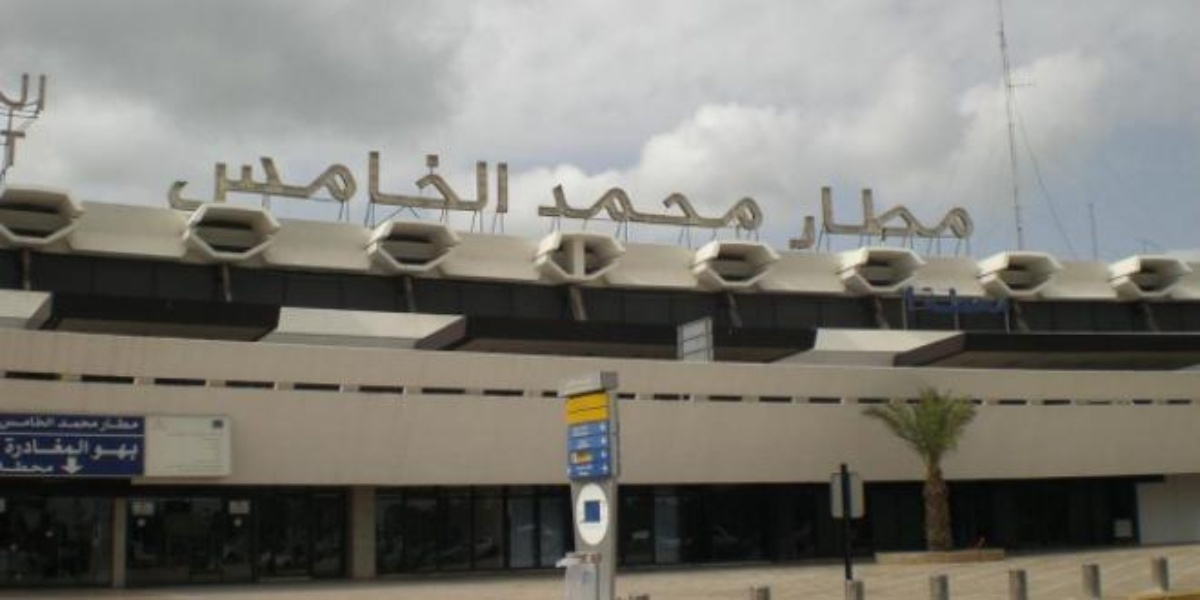text: (961, 182, 977, 250), (801, 182, 816, 250), (817, 182, 832, 250), (833, 182, 848, 250), (849, 182, 864, 250), (865, 182, 880, 250), (881, 182, 896, 250), (897, 182, 912, 250), (913, 182, 928, 250), (929, 182, 944, 250), (945, 182, 960, 250), (177, 144, 192, 211), (193, 144, 208, 211), (209, 144, 224, 211), (225, 144, 240, 211), (241, 144, 256, 211), (257, 144, 272, 211), (273, 144, 288, 211), (289, 144, 304, 211), (305, 144, 320, 211), (321, 144, 336, 211), (337, 144, 352, 211), (353, 144, 368, 211), (369, 144, 384, 211), (385, 144, 400, 211), (401, 144, 416, 211), (417, 144, 432, 211), (433, 144, 448, 211), (449, 144, 464, 211), (465, 144, 480, 211), (481, 144, 496, 211), (786, 182, 800, 250), (497, 144, 511, 211), (577, 417, 592, 479), (593, 417, 608, 479), (562, 417, 576, 479), (577, 424, 592, 479), (545, 179, 560, 233), (561, 179, 576, 233), (577, 179, 592, 233), (593, 179, 608, 233), (609, 179, 624, 233), (625, 179, 640, 233), (641, 179, 656, 233), (657, 179, 672, 233), (673, 179, 688, 233), (689, 179, 704, 233), (705, 179, 720, 233), (721, 179, 736, 233), (737, 179, 752, 233), (753, 179, 766, 233), (566, 424, 576, 479), (535, 179, 544, 233), (593, 424, 601, 479), (97, 439, 112, 466), (113, 439, 128, 466), (170, 144, 176, 211), (17, 437, 32, 461), (33, 437, 48, 461), (49, 437, 64, 461), (65, 437, 80, 461), (2, 437, 16, 461), (129, 439, 141, 466), (17, 462, 32, 482), (33, 462, 48, 482), (97, 417, 112, 433), (113, 417, 128, 433), (1, 415, 16, 431), (17, 415, 32, 431), (33, 415, 48, 431), (81, 437, 91, 461), (65, 417, 80, 431), (81, 417, 96, 431), (6, 462, 16, 482), (129, 417, 141, 433), (90, 439, 96, 466), (49, 415, 57, 431), (609, 417, 611, 479), (49, 462, 55, 482), (57, 417, 64, 431), (97, 417, 99, 431)
